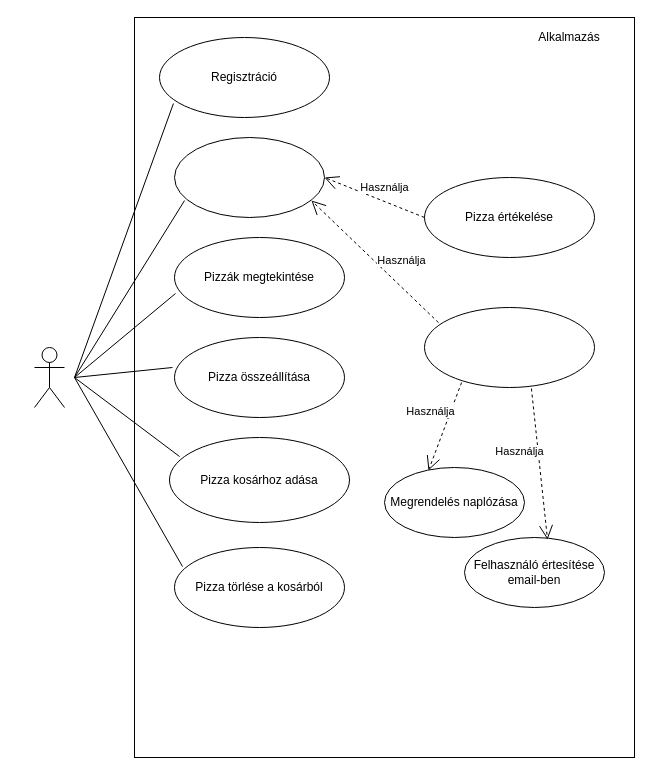
Image size: 652x775. Some labels were removed from this diagram. The shapes that lost their labels are listed below. From the top down, each one's centre as x and y in pixels, then its label:
At [249,177]: "Bejelentkezés".
At [509,347]: "A kosár tartalmának megrendelése".
At [49,377]: "Felhasználó".
